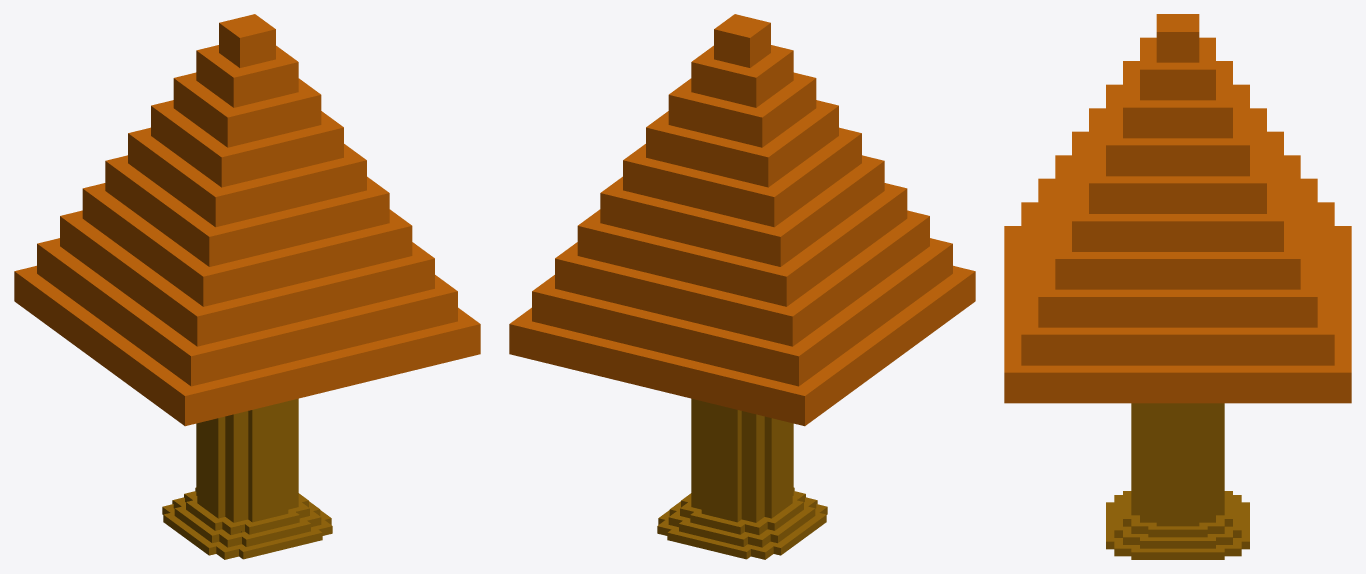
Rendered from tree04-1.fbx.
3 views of the same model, side by side, from view 1: azimuth 30°, elevation 25°; view 2: azimuth 150°, elevation 25°; view 3: azimuth 270°, elevation 25° (orthographic).
Visible parts, largest first — view 1: Tree04-1, Tree02-Stem, Tree02-Root; view 2: Tree04-1, Tree02-Stem, Tree02-Root; view 3: Tree04-1, Tree02-Stem, Tree02-Root.
Part boxes in pixels (bbox=[...]): Tree04-1: bbox=[14, 14, 480, 426]; Tree02-Stem: bbox=[196, 398, 298, 522]; Tree02-Root: bbox=[162, 487, 332, 559]; Tree04-1: bbox=[509, 14, 975, 426]; Tree02-Stem: bbox=[691, 398, 793, 522]; Tree02-Root: bbox=[657, 487, 827, 559]; Tree04-1: bbox=[1004, 14, 1351, 403]; Tree02-Stem: bbox=[1131, 403, 1224, 526]; Tree02-Root: bbox=[1106, 491, 1249, 559].
Size of the model in its own units: 410 by 660 by 410.
